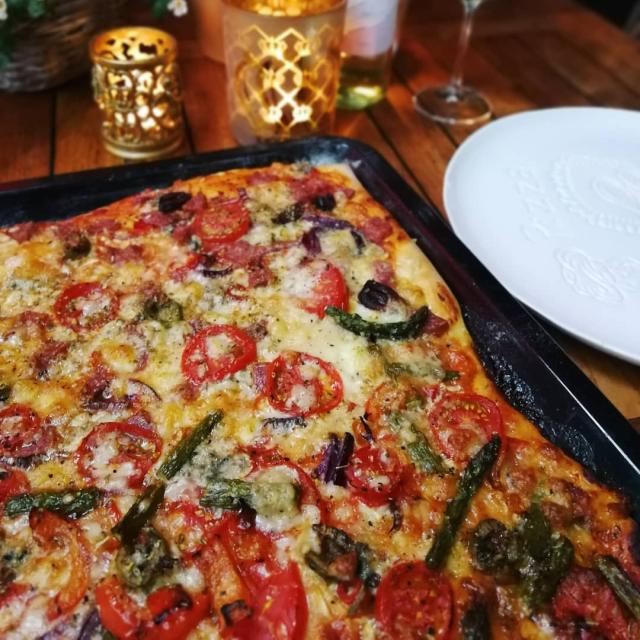black_olives: (355, 274, 397, 312), (156, 187, 190, 215), (271, 199, 307, 225), (306, 188, 338, 215), (67, 232, 92, 264)
green_olives: (468, 513, 511, 573), (144, 294, 182, 330)
pizza: (0, 160, 640, 640)
tomatoes: (372, 549, 462, 640), (26, 512, 93, 624), (97, 575, 208, 640), (76, 418, 160, 493), (422, 390, 509, 459), (261, 347, 344, 417), (175, 320, 259, 380), (330, 442, 403, 504), (286, 254, 351, 323), (49, 278, 119, 333), (1, 398, 61, 462), (349, 380, 406, 447), (197, 203, 251, 241), (0, 470, 29, 502)
